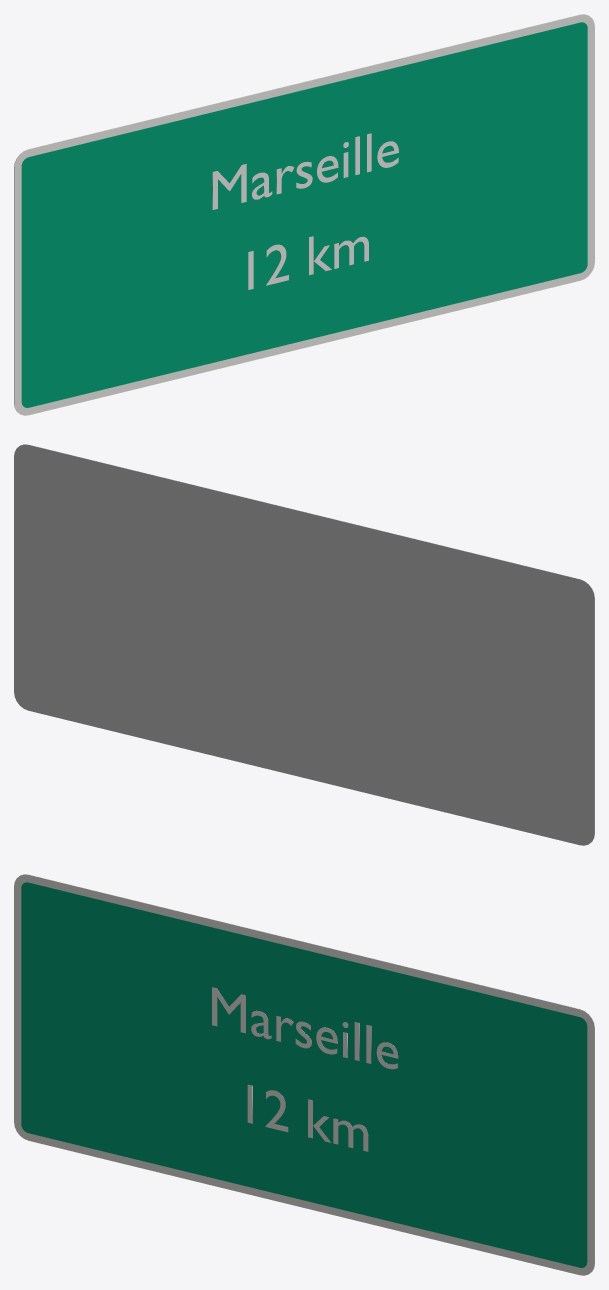
3 renders of one model, top to bottom at view 1: azimuth 30°, elevation 25°; view 2: azimuth 150°, elevation 25°; view 3: azimuth 330°, elevation 25°, orthographic.
Visible parts, largest first — view 1: D21a_fond01, D21a_cadre00, D21a_txt02, D21a_txt03, D21a_dos; view 2: D21a_dos; view 3: D21a_fond01, D21a_cadre00, D21a_txt02, D21a_txt03, D21a_dos.
Boxes of the visible parts, bbox=[...] form: D21a_fond01: bbox=[21, 22, 587, 407]; D21a_cadre00: bbox=[14, 14, 594, 415]; D21a_txt02: bbox=[212, 133, 398, 209]; D21a_txt03: bbox=[248, 236, 368, 289]; D21a_dos: bbox=[14, 14, 584, 409]; D21a_dos: bbox=[14, 444, 594, 845]; D21a_fond01: bbox=[21, 882, 587, 1267]; D21a_cadre00: bbox=[14, 874, 594, 1275]; D21a_txt02: bbox=[212, 987, 398, 1069]; D21a_txt03: bbox=[247, 1084, 368, 1151]; D21a_dos: bbox=[24, 874, 594, 1269].
Size of the model in its own units: 1.6 by 0.7 by 0.0029.
